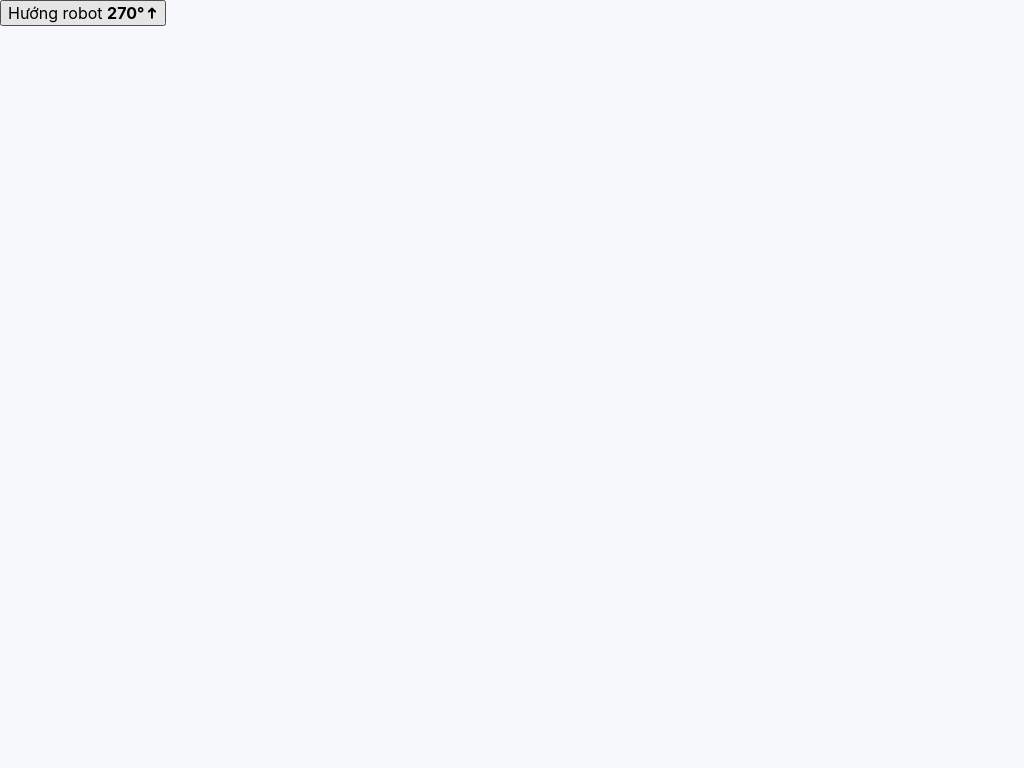
Test: maps the dial to board directions and closes when controls lock
Later steps or results of the test are not shown.
Click the button with aria-label "Chỉnh hướng robot" at (83, 13), box x1=0 y1=0 x2=166 y2=26
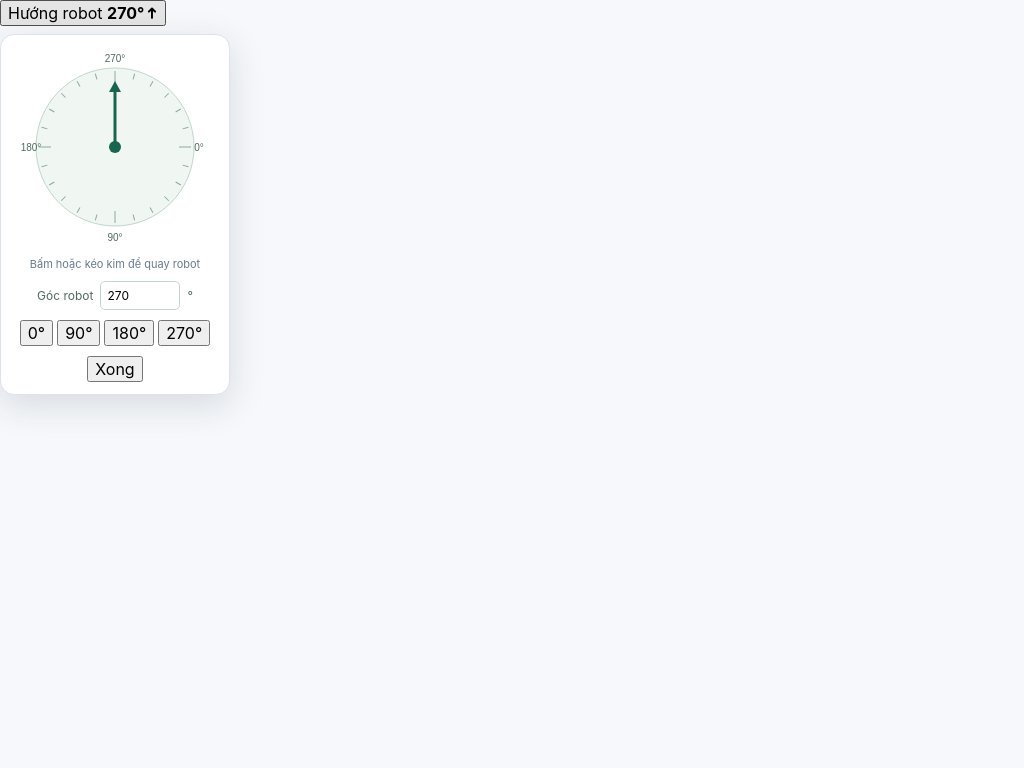
Press the mouse on the slider at (115, 147), box x1=15 y1=47 x2=215 y2=247
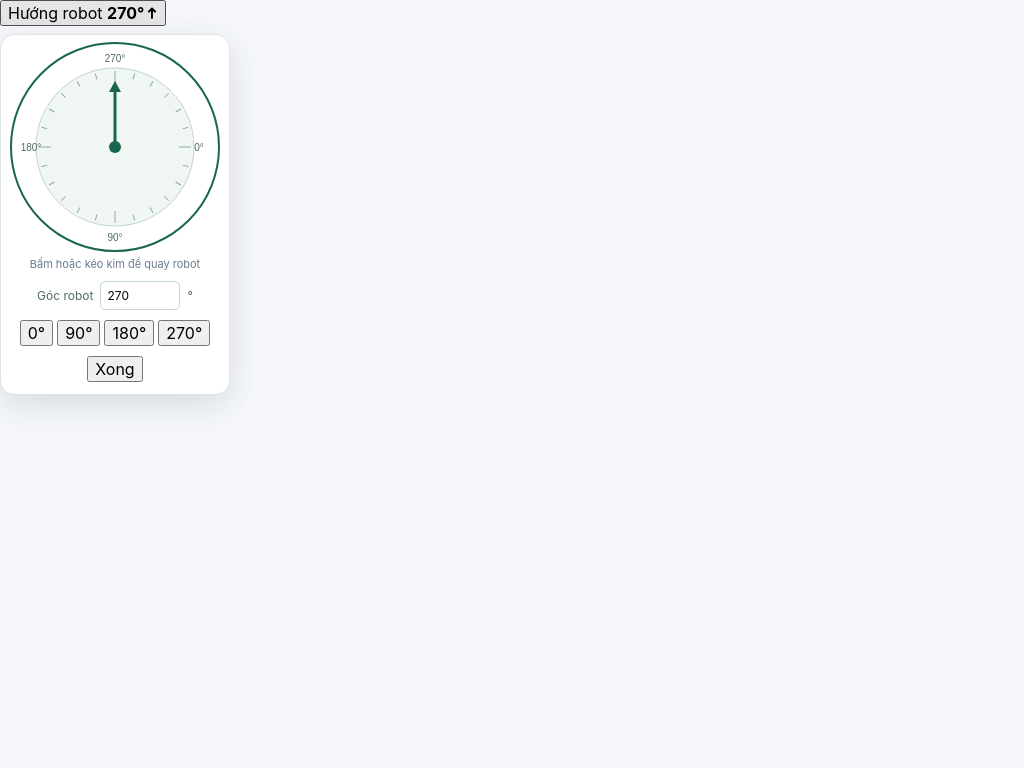
Press Escape
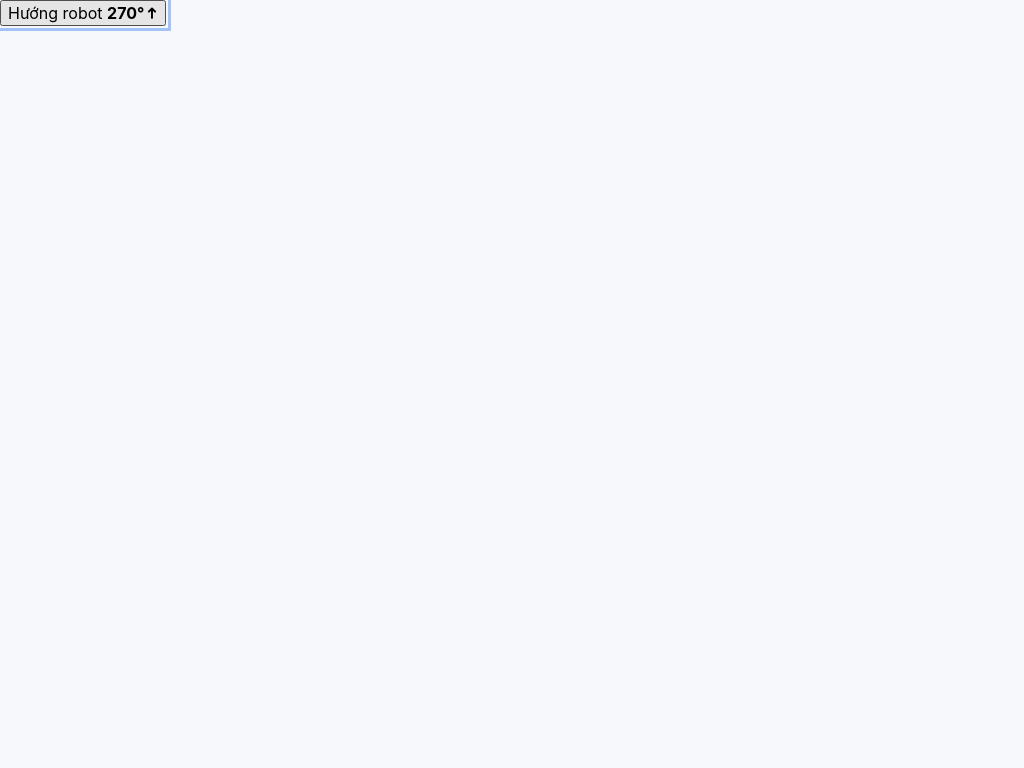
Check: the dialog is gone
